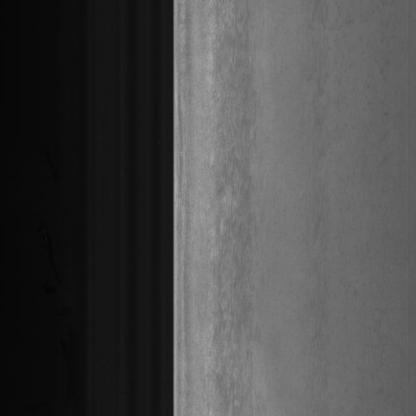silk_spot: (208, 61, 269, 375)
